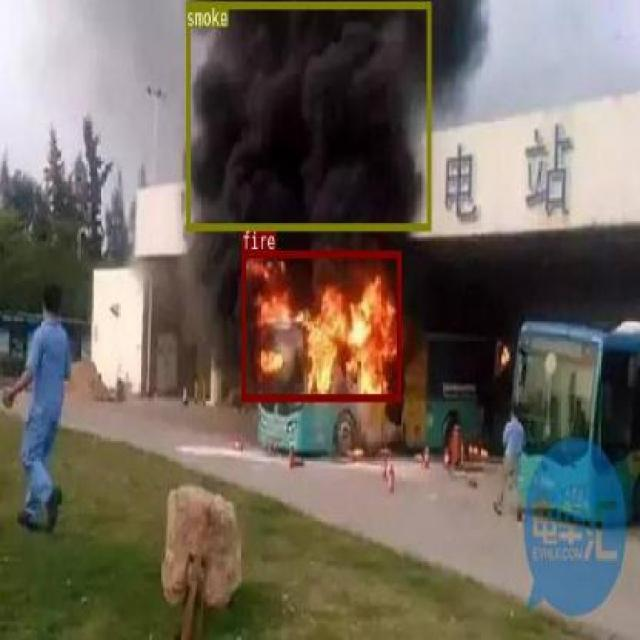Fire: (240, 250, 400, 401)
Smoke: (185, 2, 430, 230)
